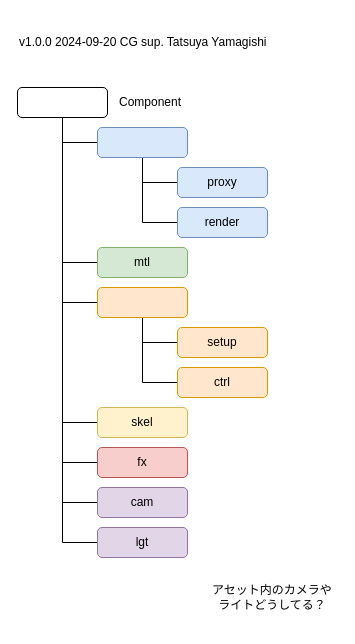
Some shapes in this 355 by 644 pixel diagram are drawn without their labels. The shapes that lost their labels are listed below. From the top down, each one's centre as x and y in pixels, then its label:
At point (62, 102): "root".
At point (142, 142): "geo".
At point (142, 302): "rig".
